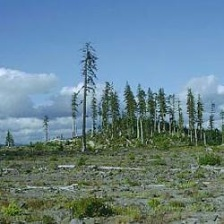neutral: (2, 5, 224, 223)
